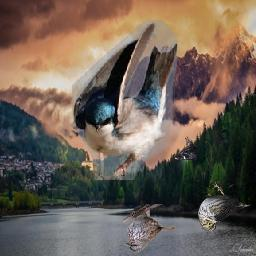Crow: (175, 136, 198, 160)
Sparrow: (198, 181, 251, 231), (124, 205, 177, 254)
Swallow: (72, 20, 178, 180)
